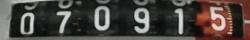digits: (17, 10, 40, 38), (53, 9, 74, 36), (208, 5, 226, 30), (133, 7, 150, 33), (94, 6, 110, 30), (174, 8, 184, 34)
